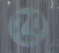Speed limit: (3, 2, 53, 52)
